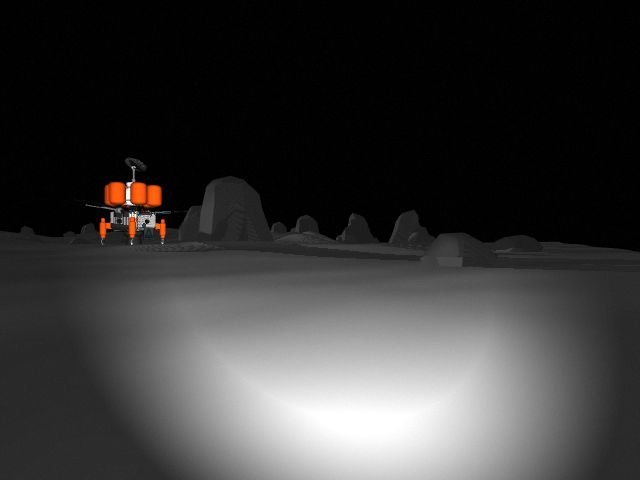homebase: (76, 154, 184, 249)
